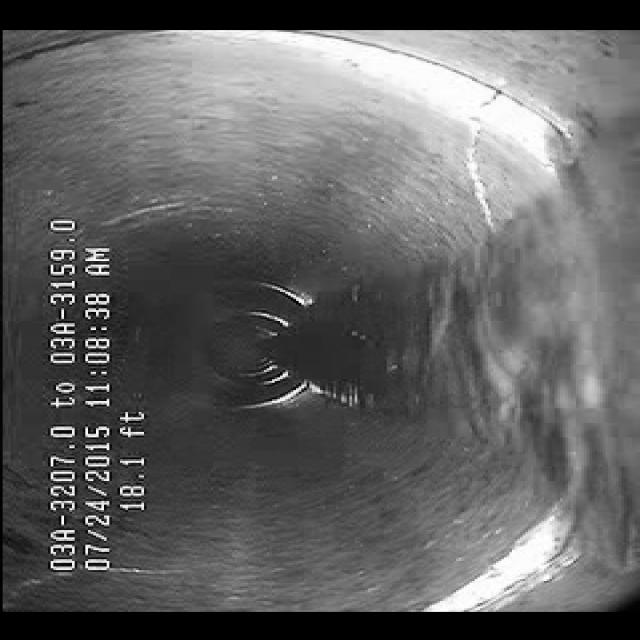Crack: (424, 90, 532, 220)
